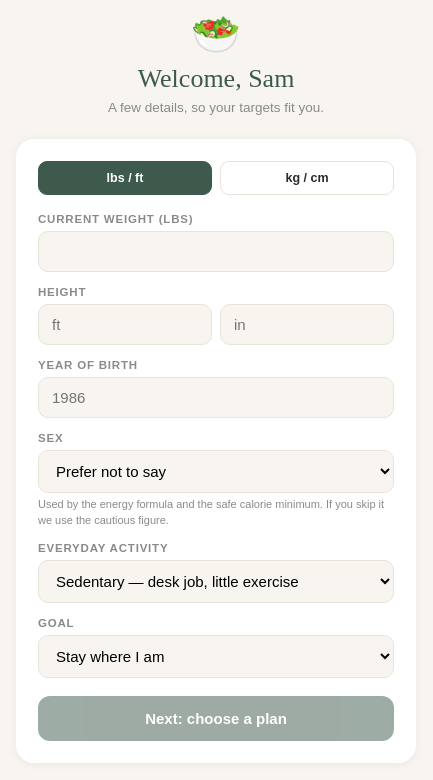
Test: onboarding › cannot be skipped past without a weight
This screenshot has width=433, height=780.
Check: the button "Next: choose a plan" is disabled, box [38,696,394,741]
Type "134" into the number field labelled "Current weight (lbs)" at x=216, y=252, box [38,231,394,272]
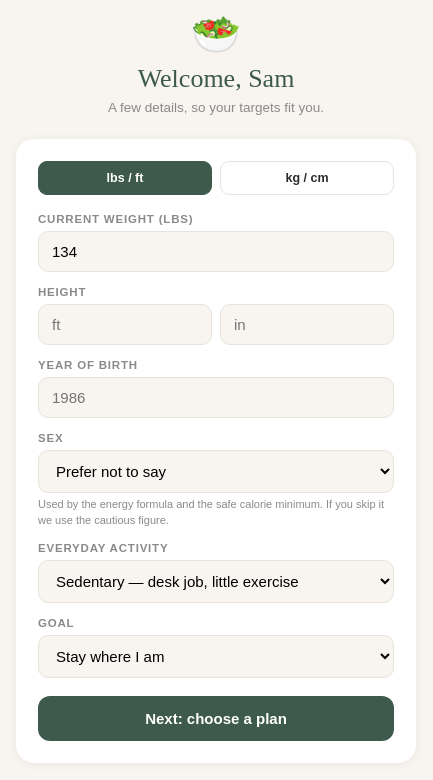
Check: the button "Next: choose a plan" is enabled, box [38,696,394,741]
